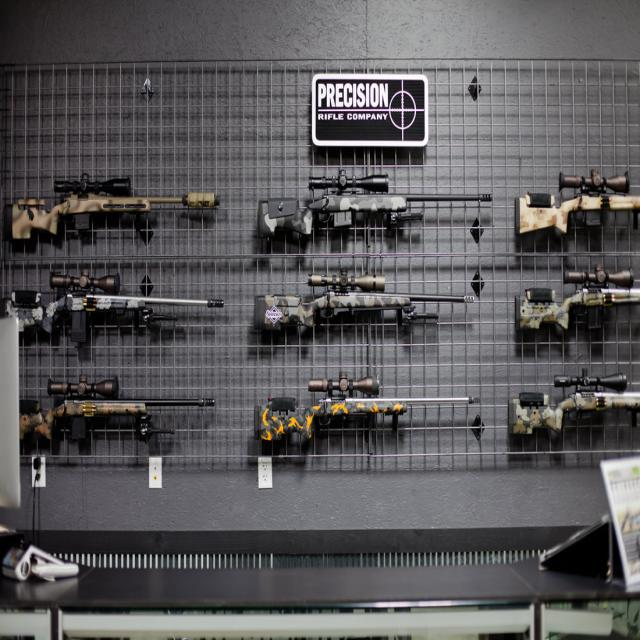Rifle: (255, 372, 478, 444), (258, 170, 492, 238), (5, 272, 225, 343), (12, 174, 216, 240), (255, 274, 475, 331), (20, 378, 215, 440), (515, 265, 640, 336), (513, 374, 640, 437), (520, 169, 640, 234)
